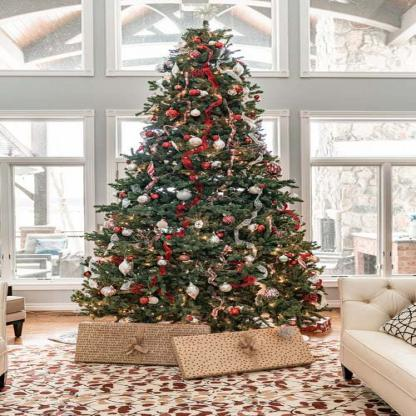present: (163, 322, 387, 379), (57, 319, 210, 377)
x_mas tree: (103, 6, 336, 322)
